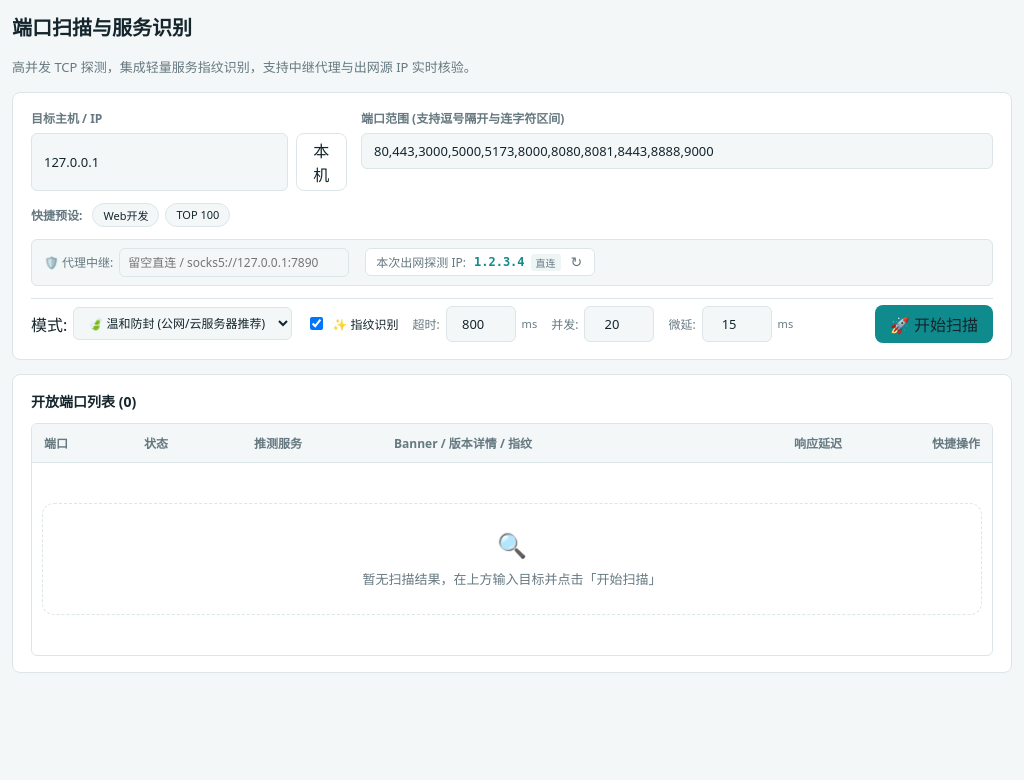
Test: PortScanView 装载与表单 › 点预设回填端口并 toast
Click the button "TOP 100" at (198, 215), box [165,203,230,227]
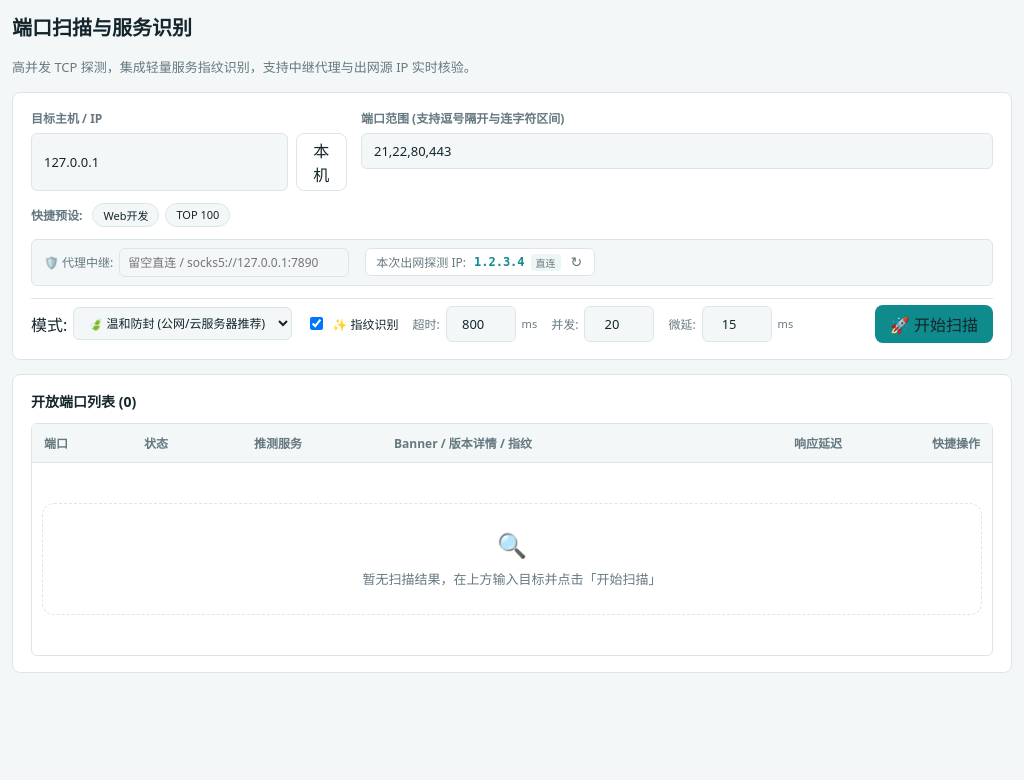
Expected: the field with placeholder "如 80,443,3000-3010,8080" below "端口范围 (支持逗号隔开与连字符区间)" holds "21,22,80,443", [361,133,993,169]
